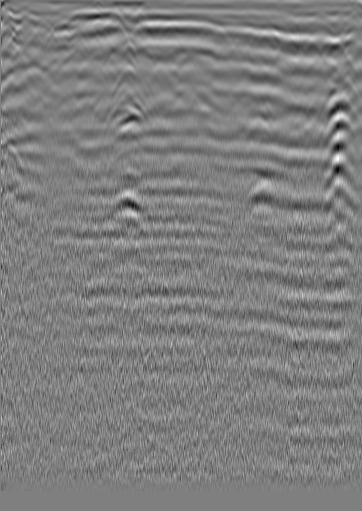가스: (104, 190, 144, 218)
상수: (32, 21, 52, 41)
오수: (303, 31, 323, 51)
우수: (157, 26, 177, 46)
